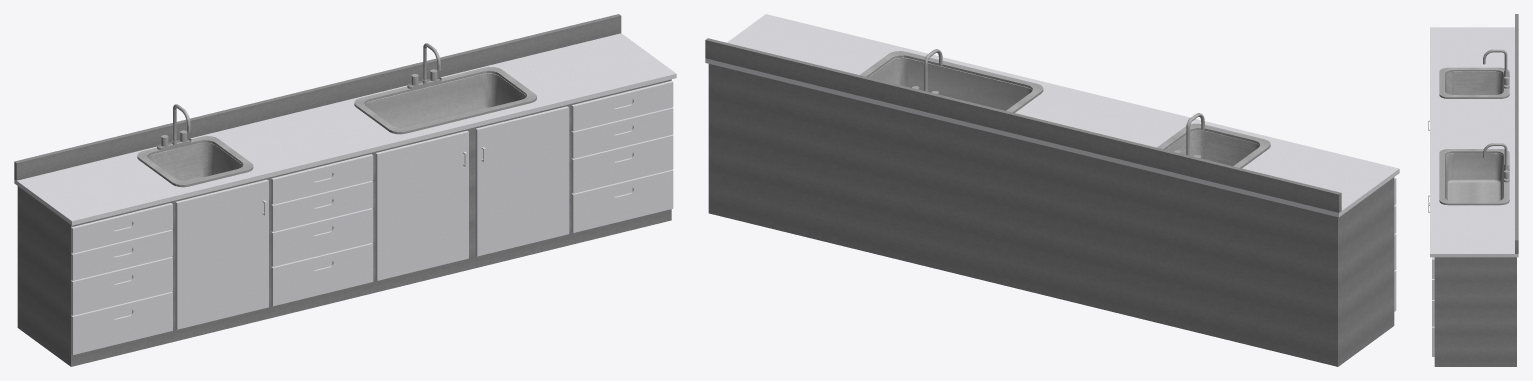
The model's file is Cupb_Wash.fbx.
The picture shows the model from 3 angles, left to right: view 1: azimuth 30°, elevation 25°; view 2: azimuth 150°, elevation 25°; view 3: azimuth 270°, elevation 25°; orthographic projection. The views are drawn at different scales.
Parts seen in each view (by area): view 1: Model, FamilyGeomCombination_3213_1, FamilyGeomCombination_3172_1, FamilyGeomCombination_3171_1, FamilyGeomCombination_3125_1, FamilyGeomCombination_3126_1, FamilyGeomCombination_3359_1, FamilyGeomCombination_3358_1, FamilyGeomCombination_3214_1; view 2: Model, FamilyGeomCombination_3359_1, FamilyGeomCombination_3126_1, FamilyGeomCombination_3213_1, FamilyGeomCombination_3358_1, FamilyGeomCombination_3214_1; view 3: Model, FamilyGeomCombination_3213_1, FamilyGeomCombination_3172_1.
Part boxes in pixels (x1=…): Model: x1=14, y1=14, x2=671, y2=329; FamilyGeomCombination_3213_1: x1=14, y1=33, x2=676, y2=225; FamilyGeomCombination_3172_1: x1=571, y1=81, x2=673, y2=232; FamilyGeomCombination_3171_1: x1=271, y1=154, x2=373, y2=306; FamilyGeomCombination_3125_1: x1=71, y1=203, x2=172, y2=354; FamilyGeomCombination_3126_1: x1=17, y1=186, x2=171, y2=366; FamilyGeomCombination_3359_1: x1=271, y1=128, x2=471, y2=317; FamilyGeomCombination_3358_1: x1=471, y1=104, x2=571, y2=269; FamilyGeomCombination_3214_1: x1=171, y1=177, x2=271, y2=342; Model: x1=705, y1=38, x2=1341, y2=238; FamilyGeomCombination_3359_1: x1=918, y1=115, x2=1128, y2=315; FamilyGeomCombination_3126_1: x1=1233, y1=177, x2=1394, y2=366; FamilyGeomCombination_3213_1: x1=705, y1=14, x2=1399, y2=217; FamilyGeomCombination_3358_1: x1=813, y1=89, x2=918, y2=264; FamilyGeomCombination_3214_1: x1=1128, y1=166, x2=1233, y2=341; Model: x1=1428, y1=14, x2=1518, y2=366; FamilyGeomCombination_3213_1: x1=1430, y1=27, x2=1518, y2=257; FamilyGeomCombination_3172_1: x1=1432, y1=257, x2=1434, y2=356.
Bounding box in the file's own units: 368 × 113 × 62.23.
